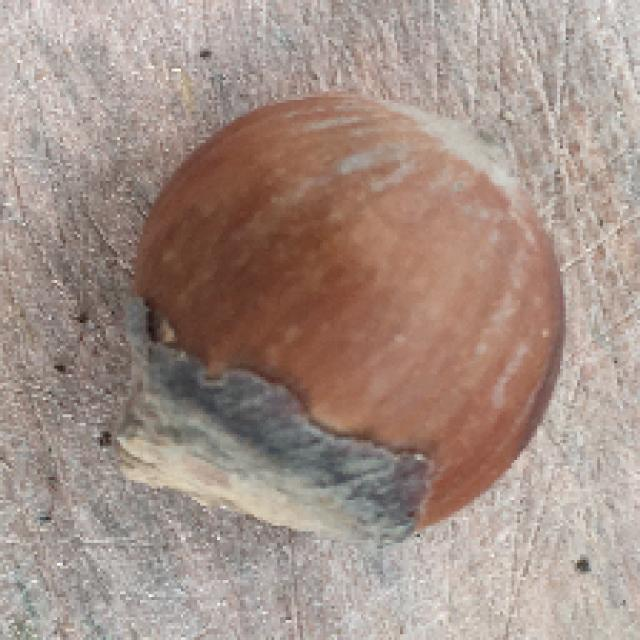damagedHazelnut: (107, 91, 573, 532)
